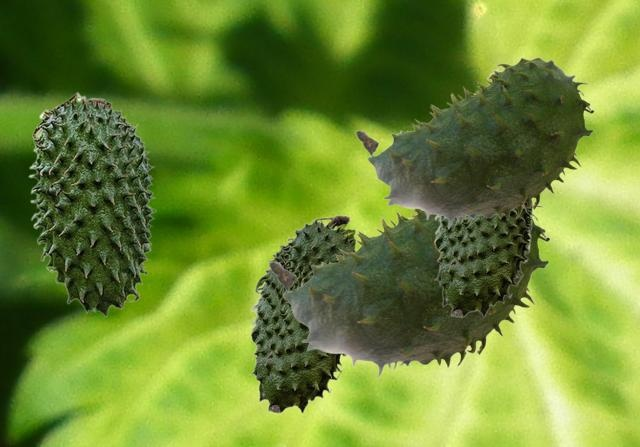guyabano: (268, 205, 549, 378), (355, 57, 593, 229), (28, 91, 156, 316), (249, 214, 356, 413), (433, 199, 533, 317)
